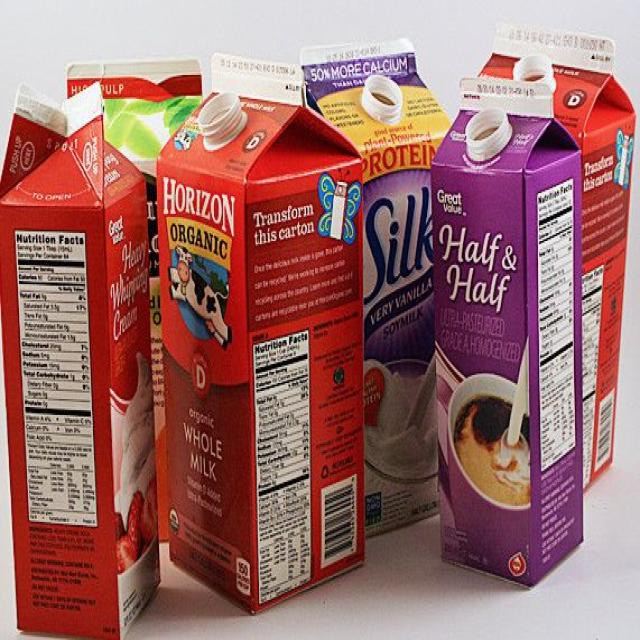cardboard: (153, 48, 440, 614), (434, 15, 640, 588), (6, 52, 174, 638)
